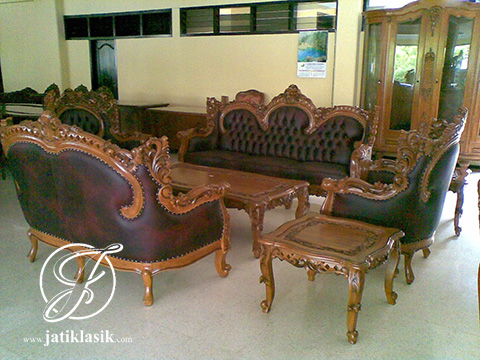Carving Chair: (4, 120, 229, 298)
Carving Table: (260, 213, 414, 346)
